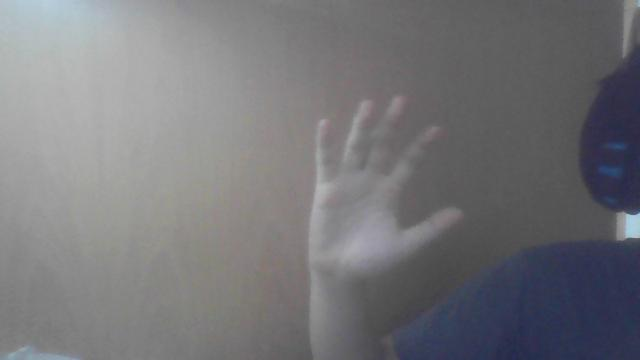Stop: (313, 96, 461, 268)
